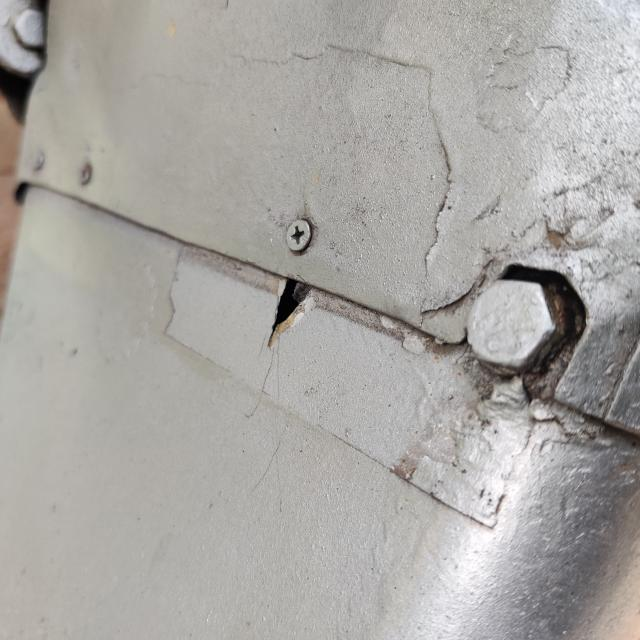crack: (230, 241, 365, 380)
